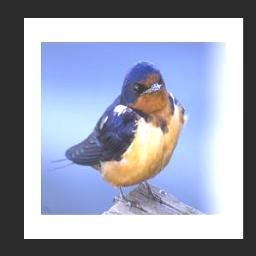Swallow: (46, 58, 190, 212)
